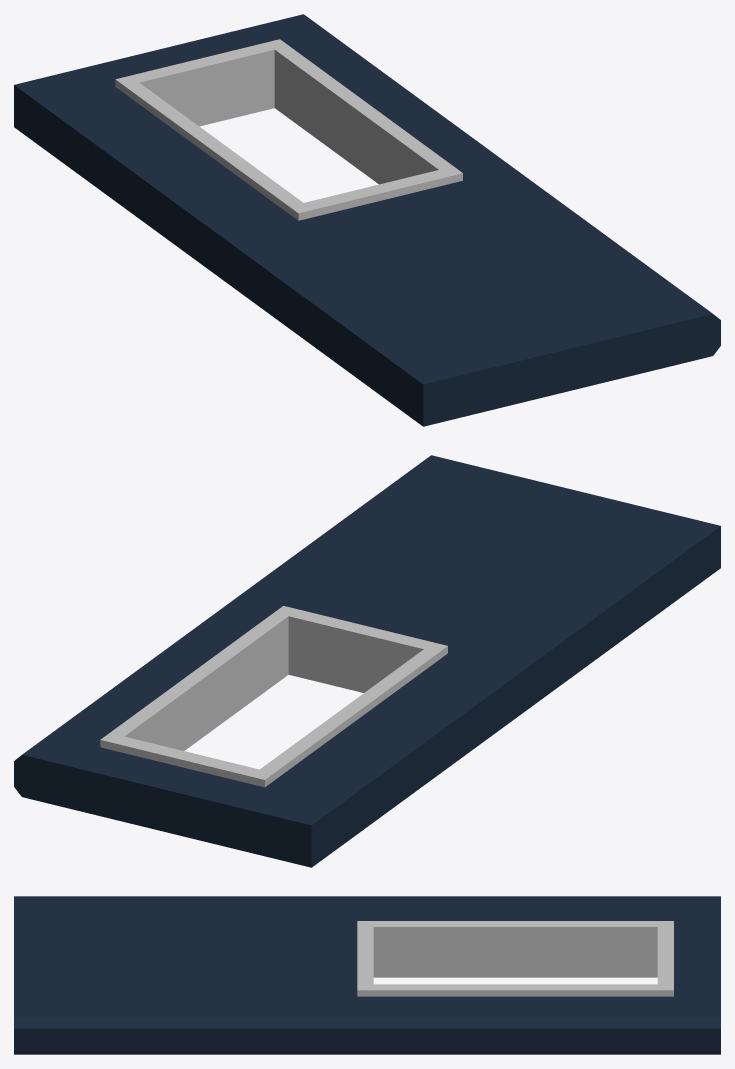
The model's file is Door 01.FBX.
The picture shows the model from 3 angles, top to bottom: view 1: azimuth 30°, elevation 25°; view 2: azimuth 150°, elevation 25°; view 3: azimuth 270°, elevation 25°; orthographic projection. The views are drawn at different scales.
Visible parts, largest first — view 1: Door 01; view 2: Door 01; view 3: Door 01.
Part boxes in pixels (x1=…): Door 01: x1=14, y1=14, x2=720, y2=426; Door 01: x1=14, y1=455, x2=720, y2=867; Door 01: x1=14, y1=896, x2=720, y2=1054.
Bounding box in the file's own units: 91.33 × 17.15 × 218.
